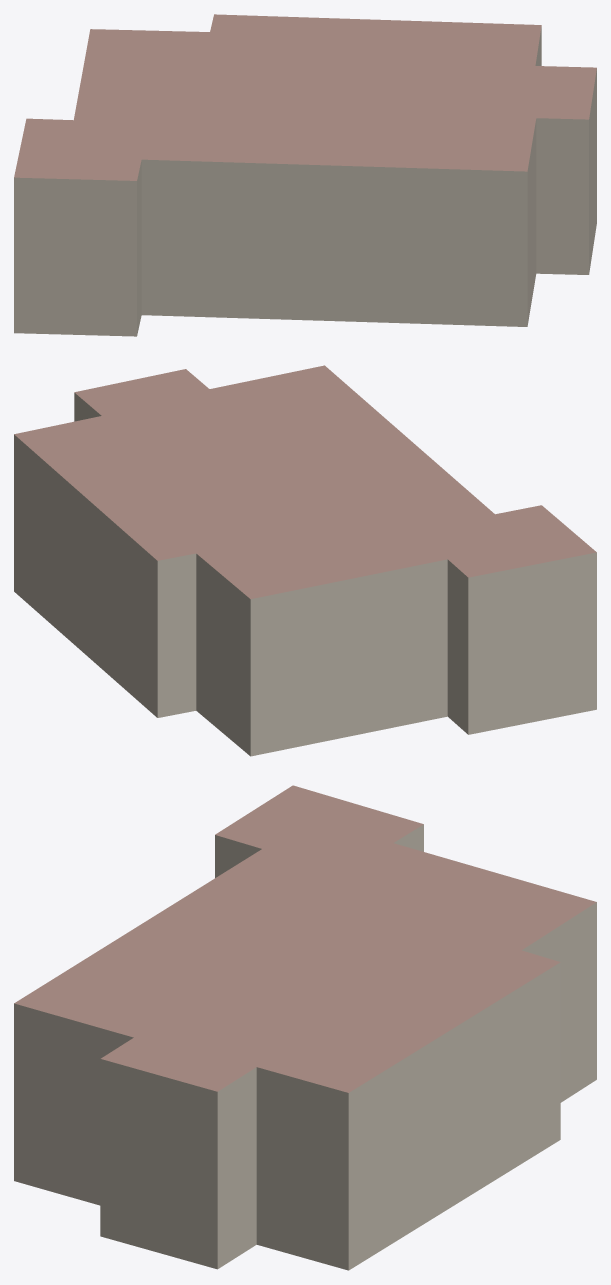
The picture shows the model from 3 angles, top to bottom: view 1: azimuth 30°, elevation 25°; view 2: azimuth 150°, elevation 25°; view 3: azimuth 270°, elevation 25°; orthographic projection. The views are drawn at different scales.
Visible parts, largest first — view 1: tuile; view 2: tuile; view 3: tuile.
Boxes of the visible parts, box(x1,y1,x2,y2) form: tuile: box(14, 14, 596, 336); tuile: box(14, 365, 596, 756); tuile: box(14, 785, 596, 1270).
Size of the model in its own units: 26.1 by 7.03 by 20.9.
